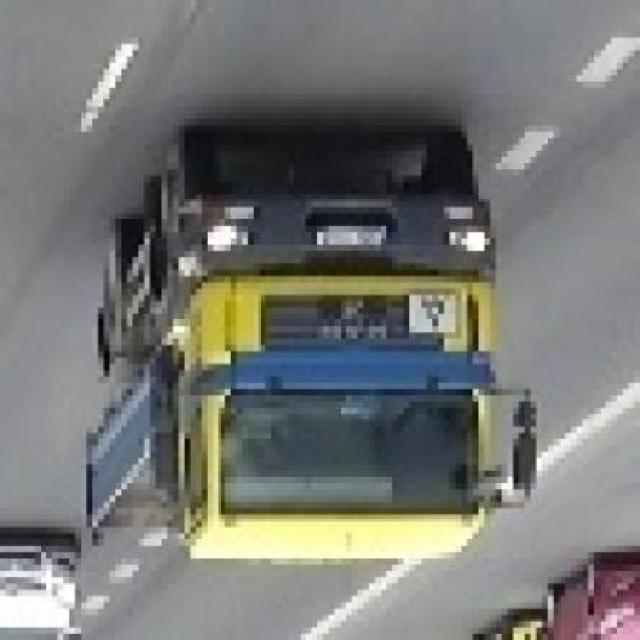truck: (64, 139, 536, 640)
